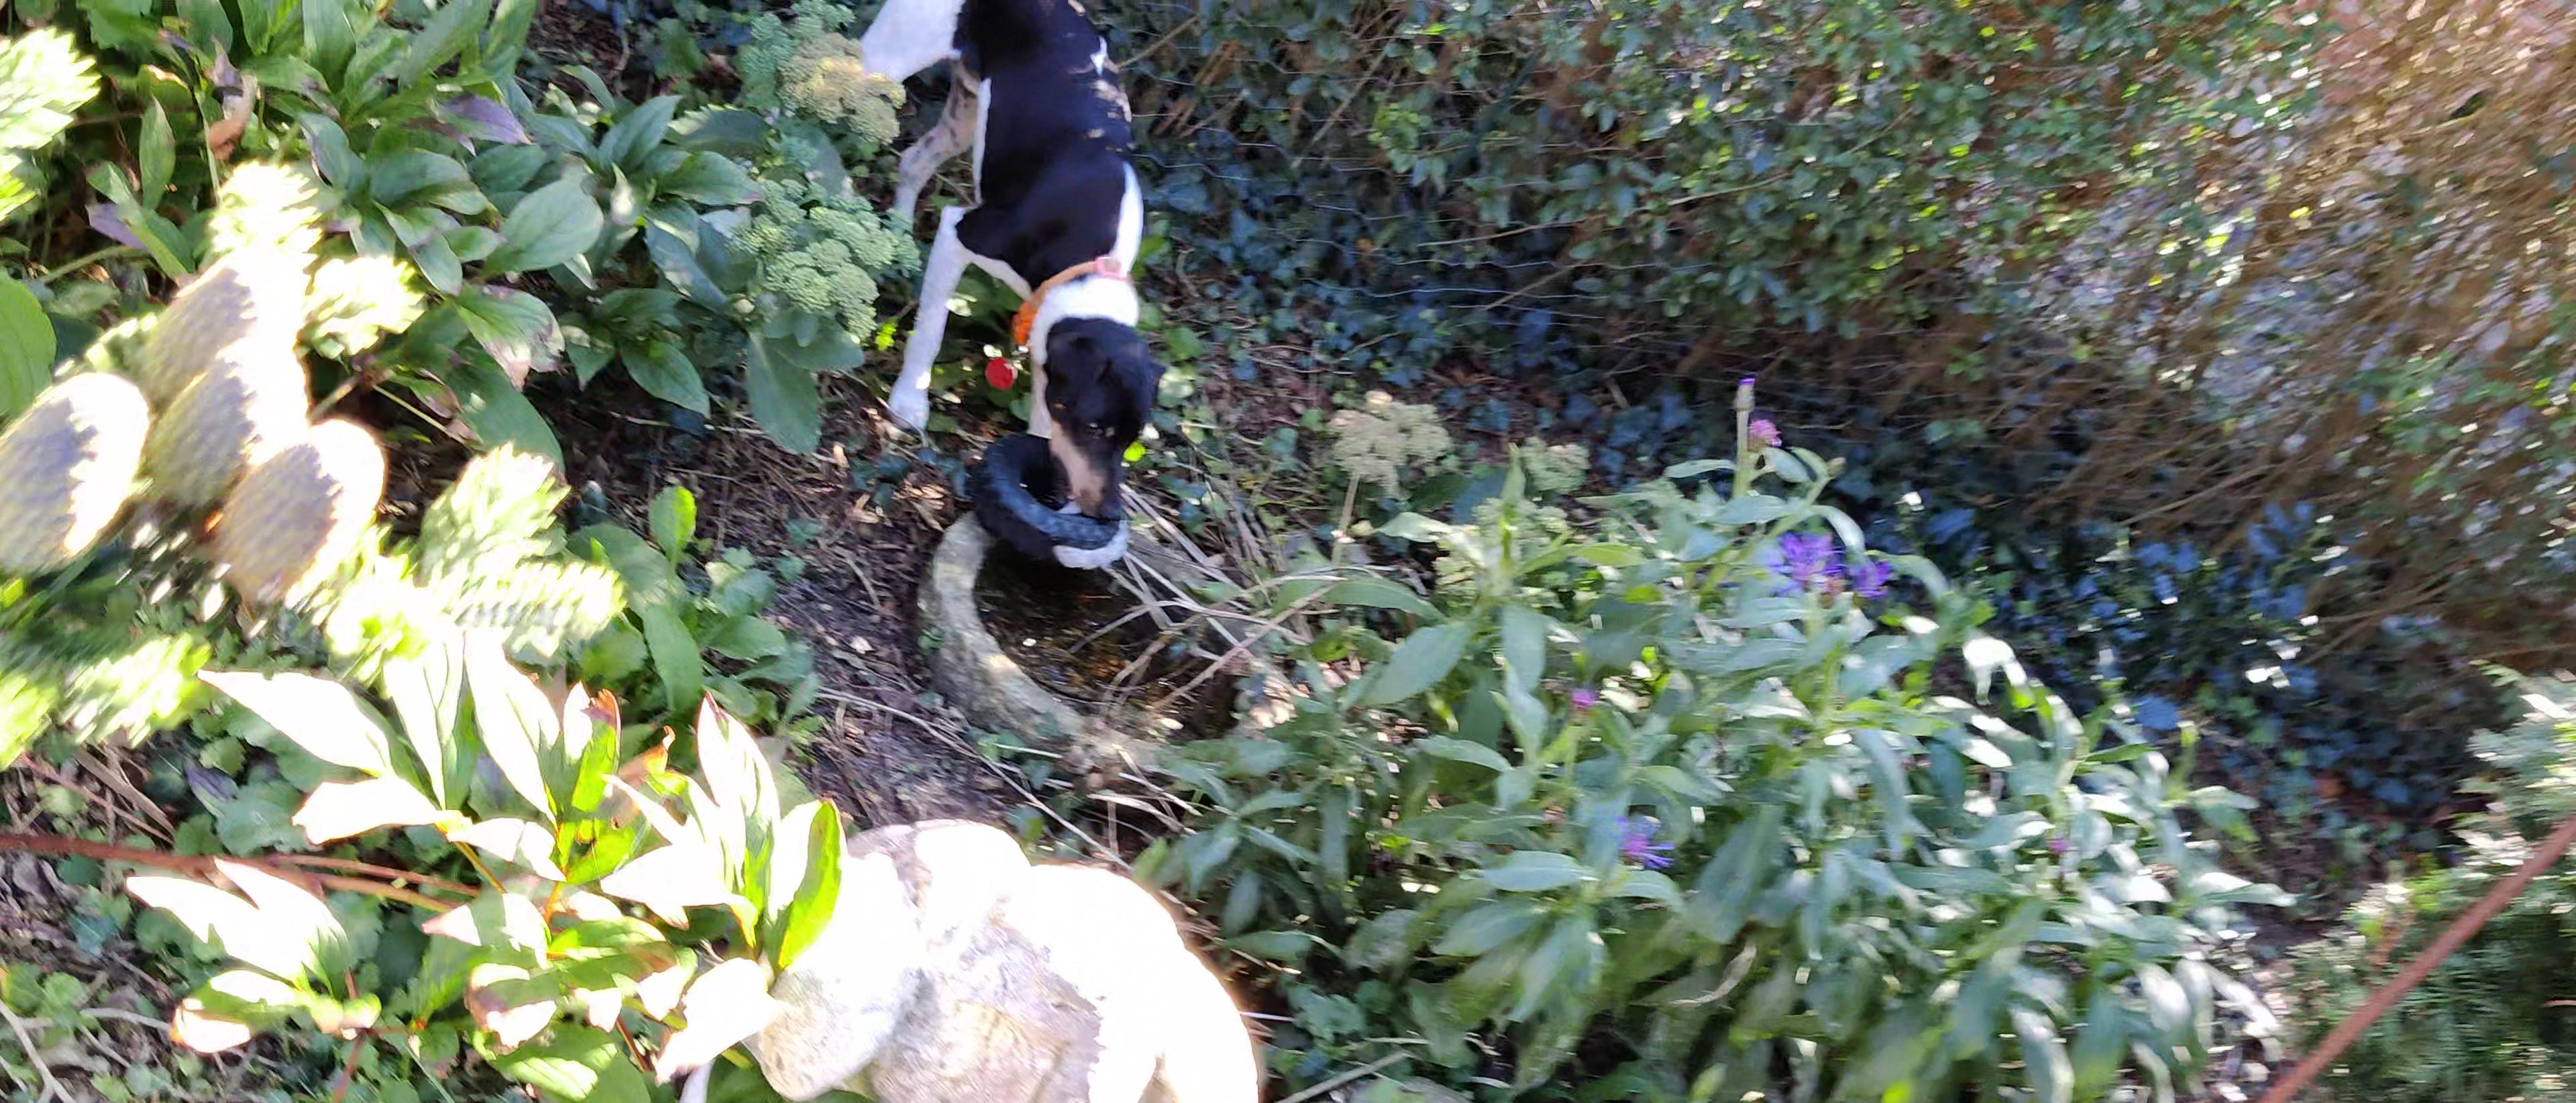Dog: (851, 0, 1170, 524)
